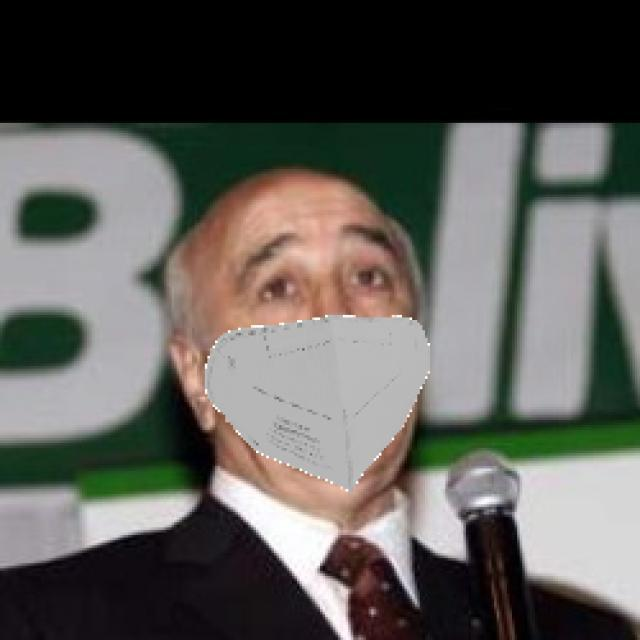kn95: (191, 222, 435, 480)
